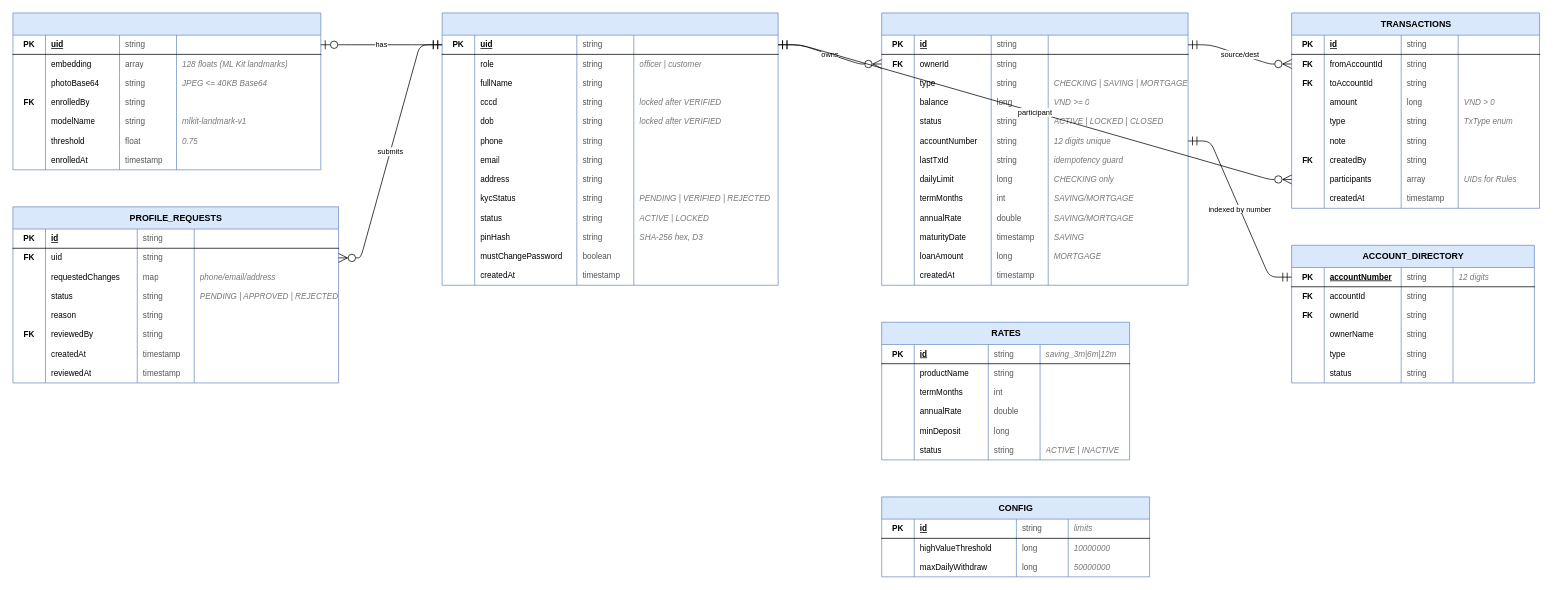
Image size: 1553x590. Some labels were removed from this diagram. The box of each missing label's shape, as (x1, y1, x2, y2) in pixels:
ACCOUNTS: (881, 12, 1188, 285)
KYC: (12, 12, 321, 170)
USERS: (441, 12, 778, 285)
